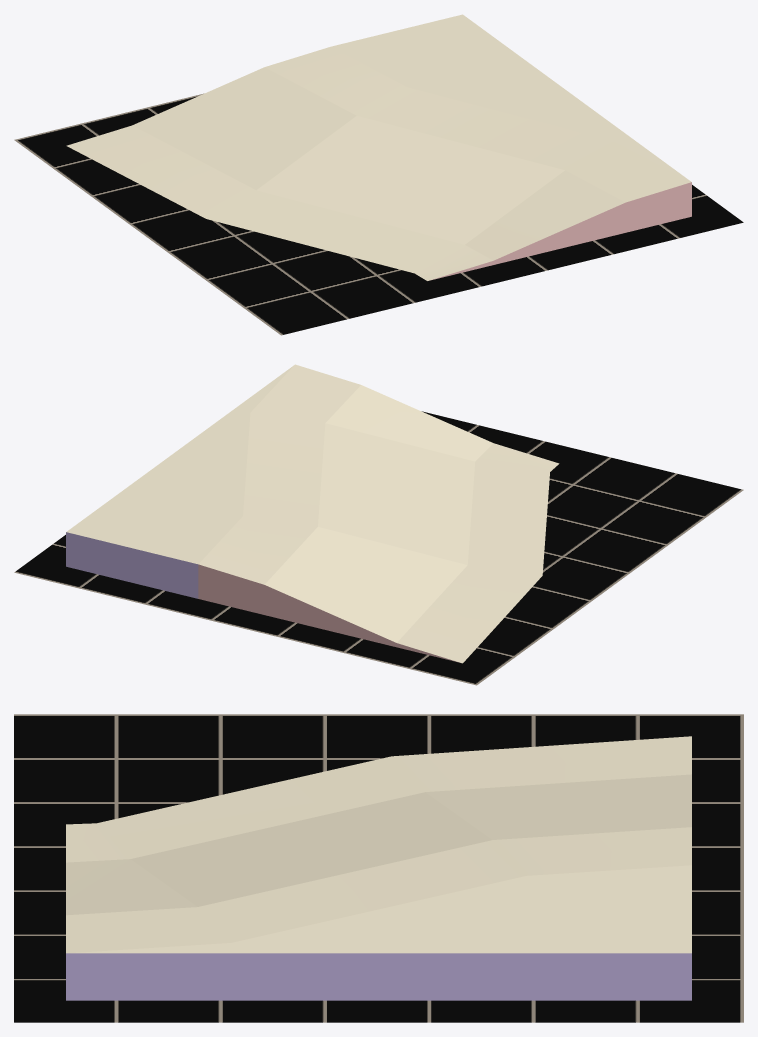
The model's file is Terrain_Sand_Incline_Esse_6x6.glb.
3 renders of one model, top to bottom at view 1: azimuth 30°, elevation 25°; view 2: azimuth 150°, elevation 25°; view 3: azimuth 270°, elevation 25°, orthographic. The views are drawn at different scales.
Visible parts, largest first — view 1: Terrain_Sand_Incline_Esse_6x6, Floor; view 2: Terrain_Sand_Incline_Esse_6x6, Floor; view 3: Terrain_Sand_Incline_Esse_6x6, Floor.
Boxes of the visible parts, bbox=[...] form: Terrain_Sand_Incline_Esse_6x6: bbox=[66, 14, 691, 280]; Floor: bbox=[14, 93, 743, 335]; Terrain_Sand_Incline_Esse_6x6: bbox=[66, 364, 559, 663]; Floor: bbox=[14, 411, 743, 685]; Terrain_Sand_Incline_Esse_6x6: bbox=[66, 736, 691, 1000]; Floor: bbox=[14, 714, 743, 1022].
Bounding box in the file's own units: 700 × 50 × 700.
5 materials, 1 textured.
